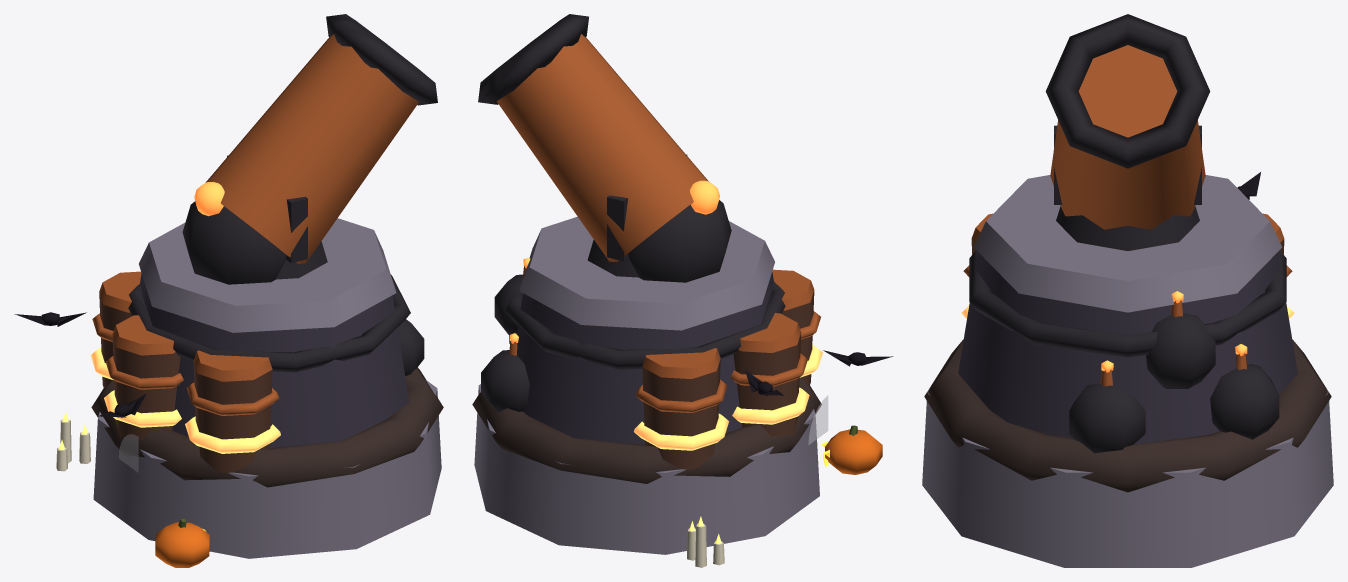
File: tower_mine_demolition.glb
The picture shows the model from 3 angles, left to right: view 1: azimuth 30°, elevation 25°; view 2: azimuth 150°, elevation 25°; view 3: azimuth 270°, elevation 25°; orthographic projection. The views are drawn at different scales.
Visible parts, largest first — view 1: base, mortar_tube, bunker, bunker_cap, earthwall, mortar_breech, bunker_band, barrel_0, mortar_mouth, barrel_2, deco_hw_jack_body, barrel_lid_0 (+13 smaller); view 2: base, mortar_tube, bunker_cap, bunker, earthwall, mortar_breech, barrel_1, bunker_band, mortar_mouth, barrel_2, big_mine_0, deco_hw_jack_body (+14 smaller); view 3: base, bunker, bunker_cap, earthwall, mortar_tube, mortar_mouth, bunker_band, big_mine_1, big_mine_2, big_mine_0, turret_yoke.
Boxes of the visible parts, x1,y1,x2,y2 form: base: [93, 380, 441, 558]; mortar_tube: [205, 34, 418, 263]; bunker: [140, 274, 409, 448]; bunker_cap: [139, 218, 396, 332]; earthwall: [91, 367, 443, 487]; mortar_breech: [182, 201, 286, 284]; bunker_band: [128, 275, 410, 372]; barrel_0: [193, 362, 272, 472]; mortar_mouth: [326, 14, 437, 105]; barrel_2: [112, 336, 180, 439]; deco_hw_jack_body: [155, 522, 209, 567]; barrel_lid_0: [193, 350, 272, 381]; base: [474, 384, 819, 554]; mortar_tube: [496, 34, 708, 261]; bunker_cap: [519, 216, 774, 330]; bunker: [516, 272, 773, 444]; earthwall: [472, 378, 821, 483]; mortar_breech: [628, 200, 731, 282]; barrel_1: [642, 359, 720, 469]; bunker_band: [505, 281, 785, 369]; mortar_mouth: [478, 14, 588, 104]; barrel_2: [733, 332, 801, 436]; big_mine_0: [481, 350, 529, 412]; deco_hw_jack_body: [825, 429, 882, 474]; base: [922, 389, 1333, 567]; bunker: [958, 252, 1297, 444]; bunker_cap: [973, 175, 1282, 312]; earthwall: [924, 339, 1331, 492]; mortar_tube: [1050, 45, 1205, 229]; mortar_mouth: [1045, 14, 1210, 168]; bunker_band: [969, 250, 1286, 357]; big_mine_1: [1069, 383, 1145, 453]; big_mine_2: [1146, 313, 1215, 388]; big_mine_0: [1210, 364, 1279, 439]; turret_yoke: [1056, 206, 1199, 250].
Size of the model in its own units: 0.4763 by 0.5481 by 0.4.
